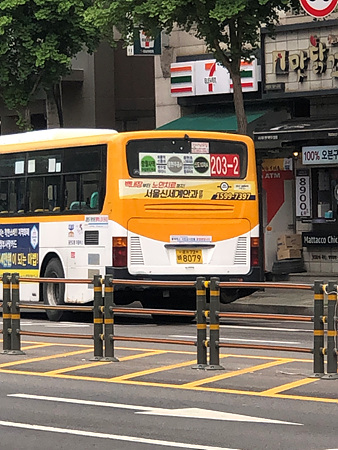bnum: (209, 155, 240, 173)
